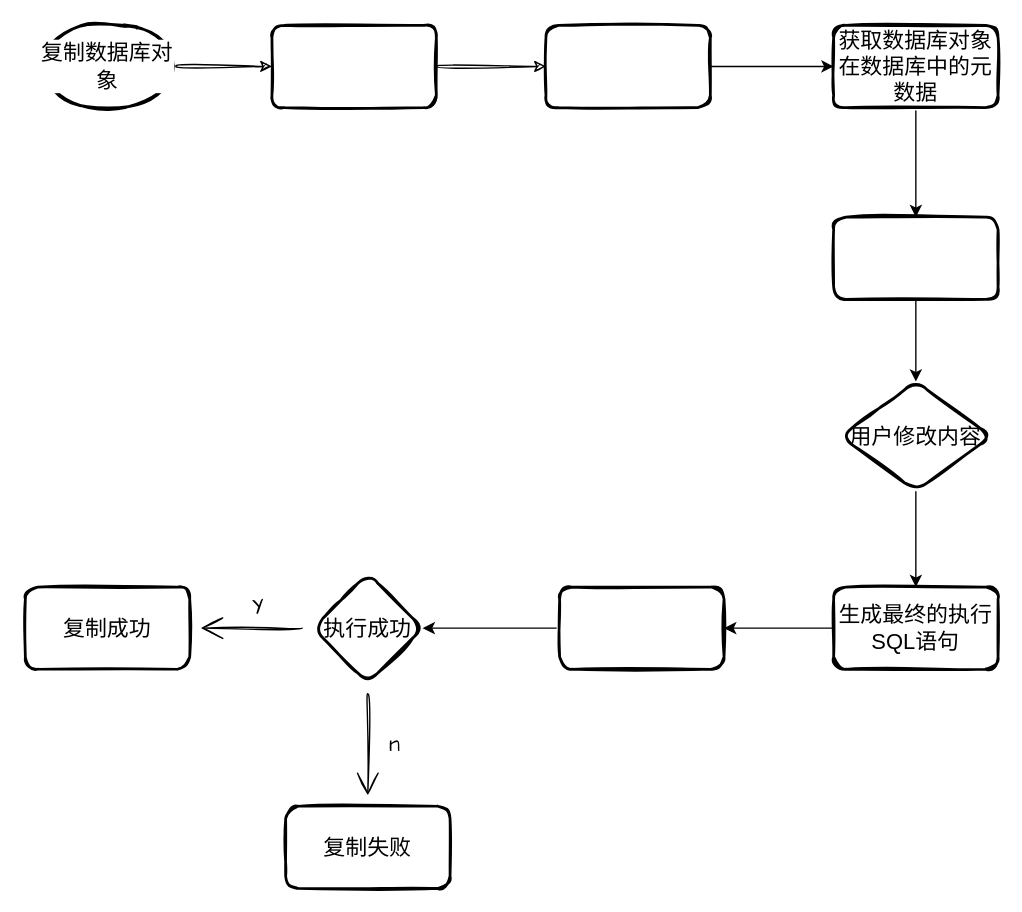
This 1022x912 diagram has some shape labels left out. The centre of each missing label's shape, as x and y in pixels:
在复制数据库对象弹窗中回填对应的元数据: the point at 915,257
在对应的数据库建立JDBC连接: the point at 627,65
执行生成的SQL语句: the point at 641,627
获取数据库对象实例: the point at 353,65
